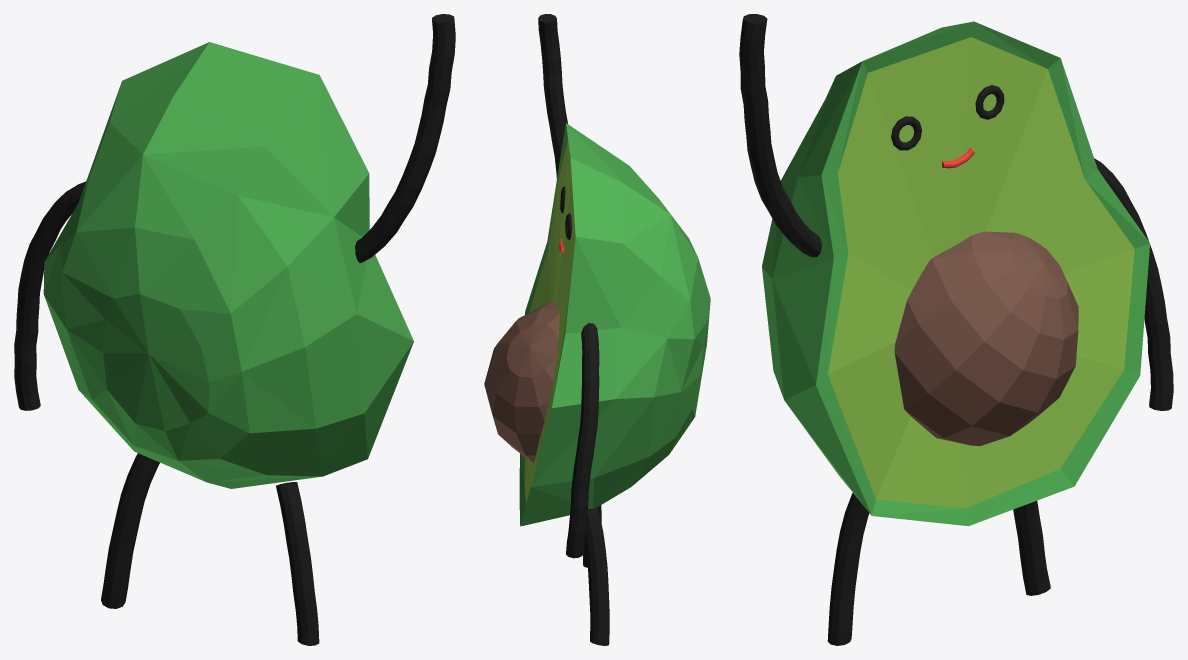
Rendered from avocado-1.fbx.
3 views of the same model, side by side, from view 1: azimuth 30°, elevation 25°; view 2: azimuth 150°, elevation 25°; view 3: azimuth 270°, elevation 25° (orthographic). The views are drawn at different scales.
Parts seen in each view (by area): view 1: mesh_2144410525, group_57346918, group_1575696903, group_246295407, group_989341432; view 2: mesh_2144410525, mesh_553117712, group_1575696903, group_246295407, group_57346918; view 3: mesh_2144410525, mesh_553117712, group_57346918, group_1575696903, group_989341432, group_246295407, mesh_1721849195, mesh_1099409518.
Boxes of the visible parts, left/top/right/bottom form: mesh_2144410525: left=43, top=42, right=413, bottom=488; group_57346918: left=355, top=14, right=455, bottom=262; group_1575696903: left=14, top=181, right=85, bottom=410; group_246295407: left=101, top=453, right=159, bottom=608; group_989341432: left=276, top=482, right=319, bottom=645; mesh_2144410525: left=519, top=123, right=710, bottom=526; mesh_553117712: left=484, top=301, right=559, bottom=463; group_1575696903: left=566, top=323, right=599, bottom=558; group_246295407: left=584, top=507, right=609, bottom=645; group_57346918: left=538, top=14, right=567, bottom=177; mesh_2144410525: left=762, top=21, right=1149, bottom=526; mesh_553117712: left=894, top=231, right=1078, bottom=445; group_57346918: left=739, top=14, right=822, bottom=257; group_1575696903: left=1094, top=158, right=1173, bottom=410; group_989341432: left=827, top=493, right=869, bottom=645; group_246295407: left=1013, top=501, right=1050, bottom=595; mesh_1721849195: left=891, top=116, right=921, bottom=150; mesh_1099409518: left=975, top=85, right=1004, bottom=119.
Bounding box in the file's own units: 20.12 × 41.81 × 24.27.
